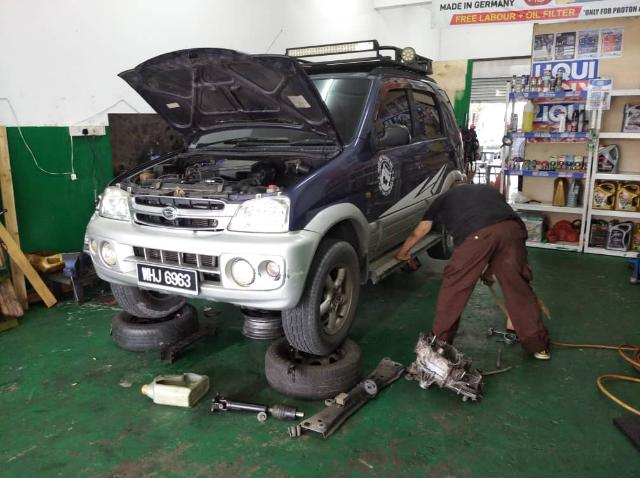License_Plate: (138, 264, 199, 296)
car: (84, 42, 473, 356)
